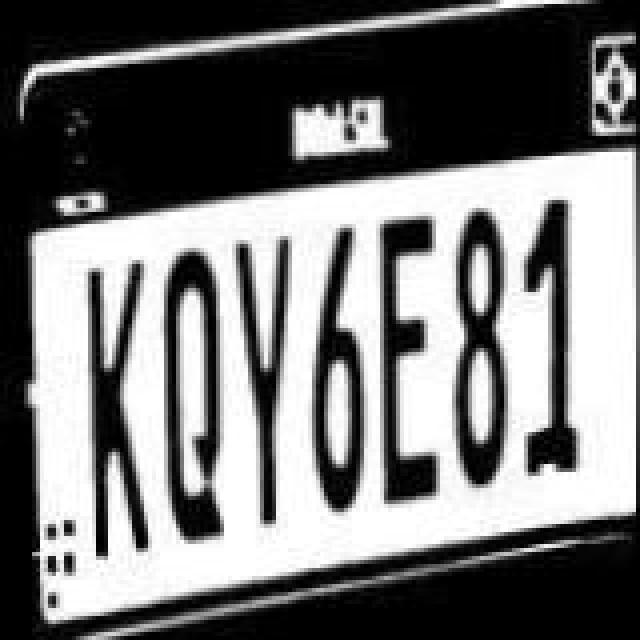1: (512, 198, 596, 482)
6: (306, 224, 370, 524)
8: (444, 210, 512, 494)
E: (366, 212, 446, 516)
K: (72, 254, 160, 554)
Q: (166, 234, 234, 542)
Y: (238, 230, 306, 534)
